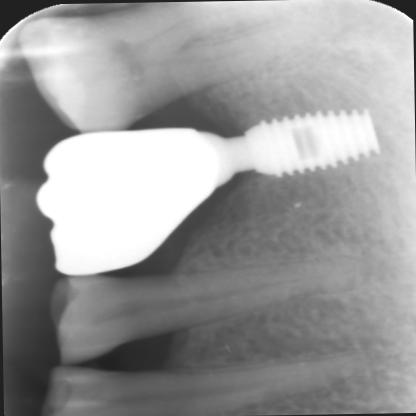Bicon: (240, 90, 376, 198)
